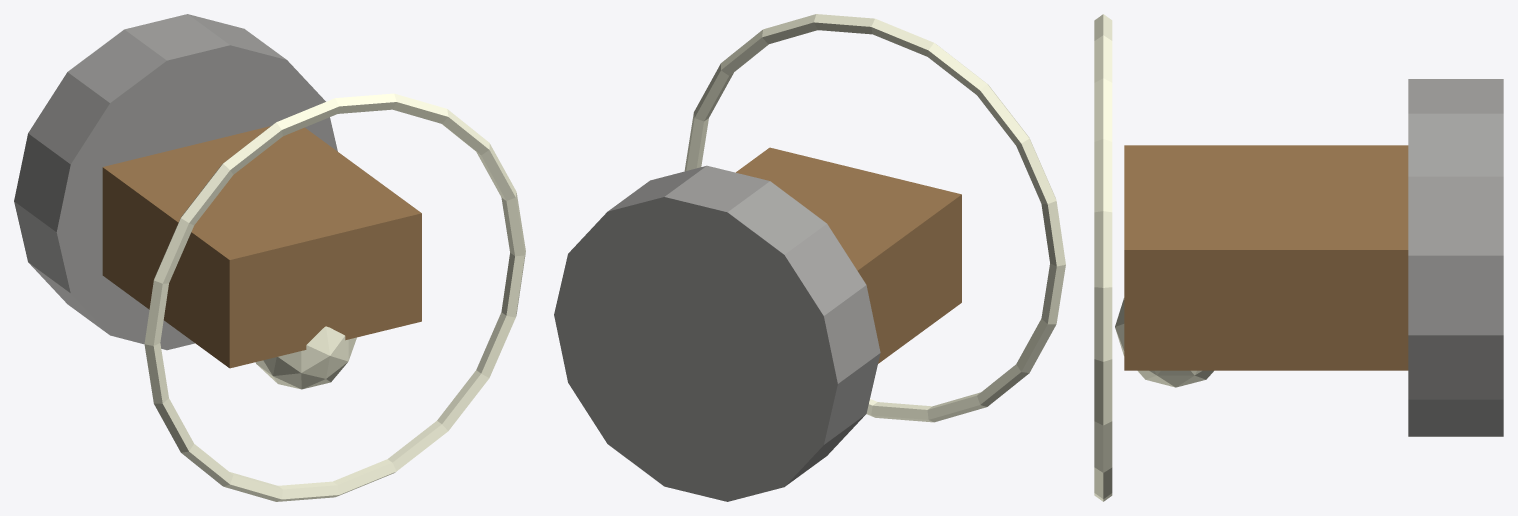
The model's file is 03_event_trigger_node.glb.
The picture shows the model from 3 angles, left to right: view 1: azimuth 30°, elevation 25°; view 2: azimuth 150°, elevation 25°; view 3: azimuth 270°, elevation 25°; orthographic projection. The views are drawn at different scales.
Visible parts, largest first — view 1: control_or_relic_body, interaction_base, objective_ring, activation_core; view 2: interaction_base, control_or_relic_body, objective_ring; view 3: control_or_relic_body, interaction_base, objective_ring, activation_core.
Boxes of the visible parts, left/top/right/bottom form: control_or_relic_body: left=102, top=126, right=421, bottom=368; interaction_base: left=14, top=14, right=337, bottom=350; objective_ring: left=144, top=93, right=525, bottom=501; activation_core: left=255, top=326, right=356, bottom=389; interaction_base: left=554, top=165, right=880, bottom=501; control_or_relic_body: left=736, top=147, right=961, bottom=363; objective_ring: left=684, top=14, right=1065, bottom=422; control_or_relic_body: left=1124, top=145, right=1408, bottom=370; interaction_base: left=1408, top=79, right=1503, bottom=436; objective_ring: left=1094, top=14, right=1112, bottom=501; activation_core: left=1115, top=298, right=1213, bottom=387.
Bounding box in the file's own units: 1.29 × 1.29 × 1.07.
